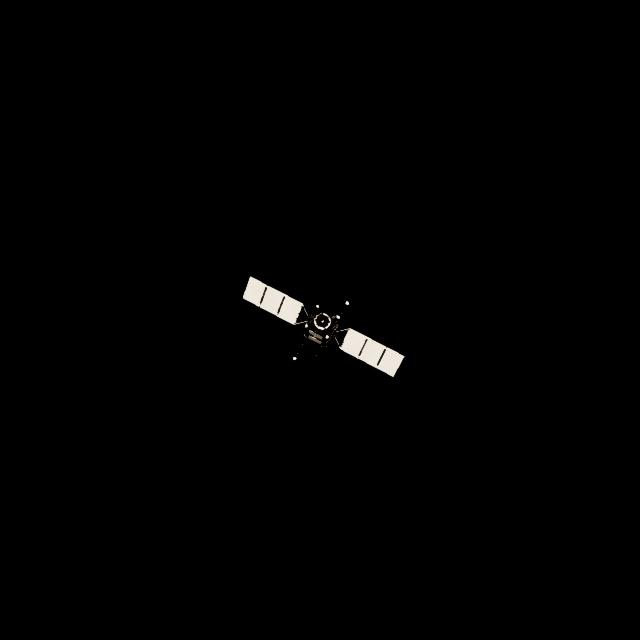medium_debris: (243, 278, 405, 380)
